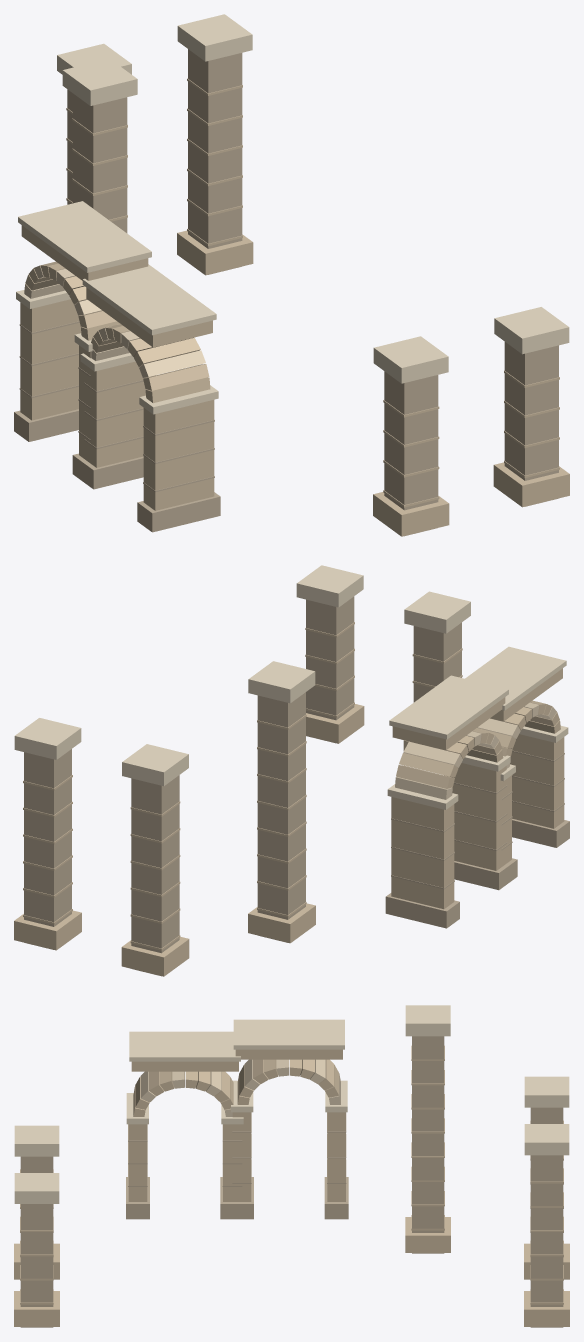
The model's file is MasonryViaduct.glb.
The picture shows the model from 3 angles, top to bottom: view 1: azimuth 30°, elevation 25°; view 2: azimuth 150°, elevation 25°; view 3: azimuth 270°, elevation 25°; orthographic projection. The views are drawn at different scales.
Visible parts, largest first — view 1: MasonryViaduct; view 2: MasonryViaduct; view 3: MasonryViaduct.
Part boxes in pixels (bbox=[...]): MasonryViaduct: bbox=[14, 14, 569, 536]; MasonryViaduct: bbox=[14, 565, 569, 976]; MasonryViaduct: bbox=[14, 1005, 569, 1327].
Size of the model in its own units: 12.12 by 9.61 by 20.82.
